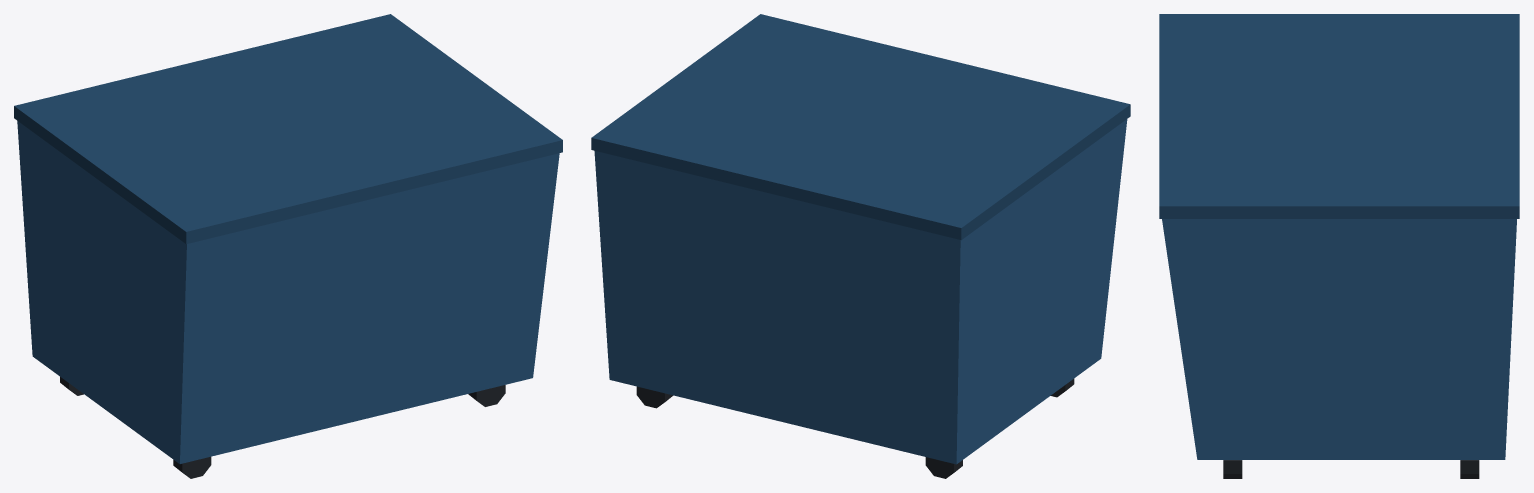
File: dumpster.glb
3 views of the same model, side by side, from view 1: azimuth 30°, elevation 25°; view 2: azimuth 150°, elevation 25°; view 3: azimuth 270°, elevation 25° (orthographic). The views are drawn at different scales.
Parts seen in each view (by area): view 1: dumpster; view 2: dumpster; view 3: dumpster.
Boxes of the visible parts, x1,y1,x2,y2 form: dumpster: [14, 14, 562, 478]; dumpster: [591, 14, 1130, 478]; dumpster: [1159, 14, 1519, 478].
Size of the model in its own units: 1.92 by 1.35 by 1.52.
